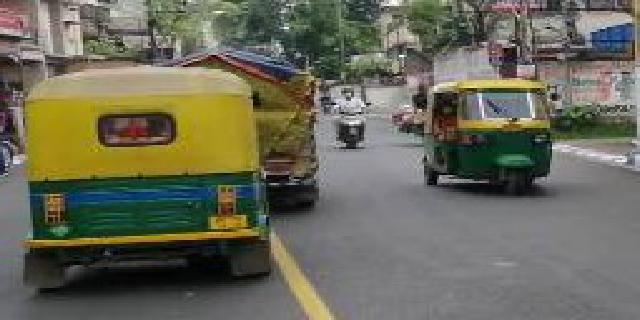Autorickshaw: (15, 68, 270, 294), (418, 77, 554, 197)
Motorbike: (329, 86, 372, 152)
